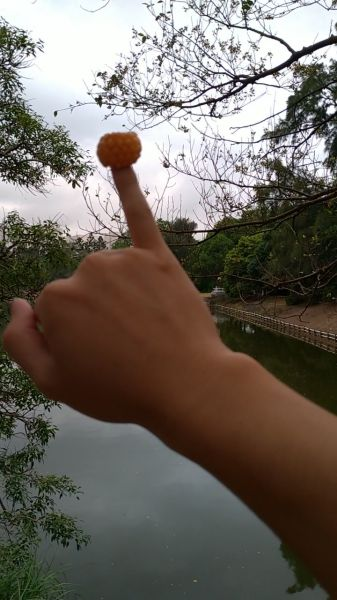eggs: (95, 131, 142, 168)
